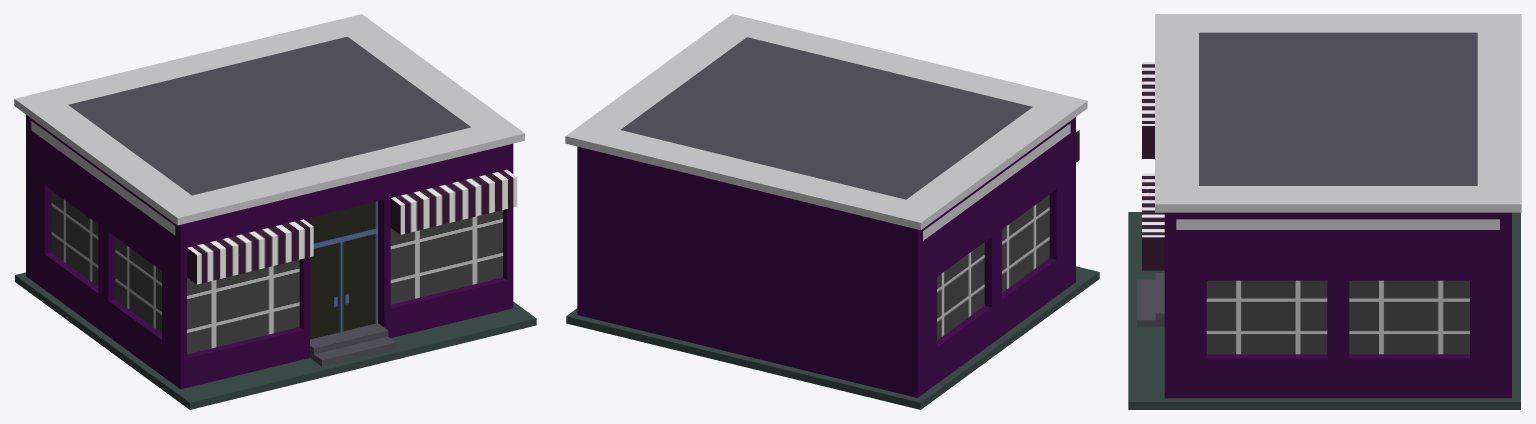
Rendered from building7b.FBX.
3 renders of one model, left to right at view 1: azimuth 30°, elevation 25°; view 2: azimuth 150°, elevation 25°; view 3: azimuth 270°, elevation 25°, orthographic. The views are drawn at different scales.
Parts seen in each view (by area): view 1: building7b; view 2: building7b; view 3: building7b.
Boxes of the visible parts, x1,y1,x2,y2 form: building7b: (14, 14, 536, 409); building7b: (565, 14, 1099, 409); building7b: (1128, 14, 1521, 409).
Bounding box in the file's own units: 17.76 × 8.94 × 15.49.
